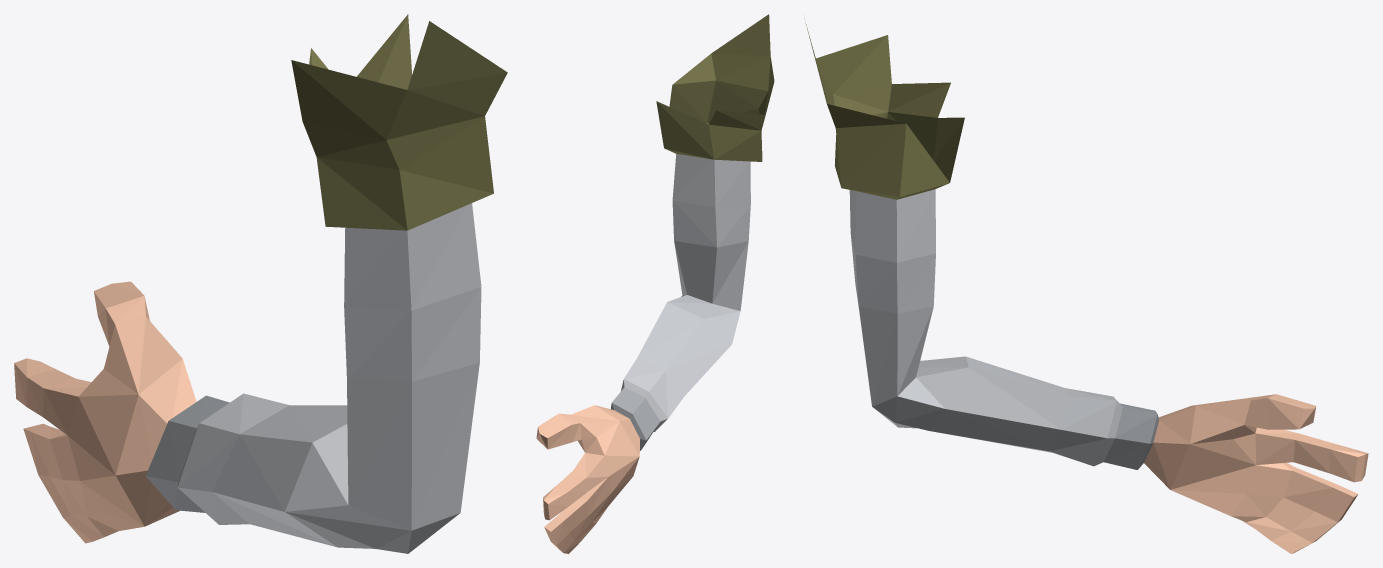
The model's file is Daughter_01_ArmL_73.obj.
3 views of the same model, side by side, from view 1: azimuth 30°, elevation 25°; view 2: azimuth 150°, elevation 25°; view 3: azimuth 270°, elevation 25° (orthographic). The views are drawn at different scales.
Parts seen in each view (by area): view 1: Daughter_01_ArmL_73; view 2: Daughter_01_ArmL_73; view 3: Daughter_01_ArmL_73.
Part boxes in pixels (x1,y1,x2,y2): Daughter_01_ArmL_73: (14,14,507,553); Daughter_01_ArmL_73: (536,14,774,553); Daughter_01_ArmL_73: (805,23,1368,553).
Bounding box in the file's own units: 0.1622 × 0.6136 × 0.5919.
Materials: 1 (1 with a texture image).
